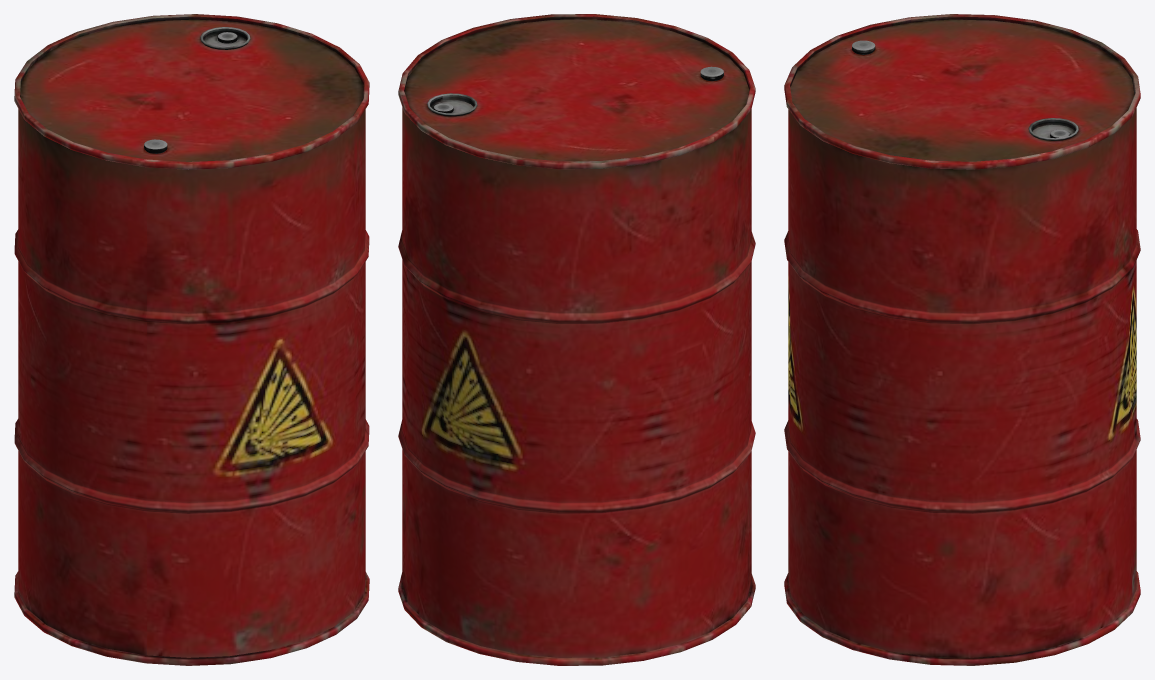
The model's file is barrel_01.glb.
The picture shows the model from 3 angles, left to right: view 1: azimuth 30°, elevation 25°; view 2: azimuth 150°, elevation 25°; view 3: azimuth 270°, elevation 25°; orthographic projection.
Parts seen in each view (by area): view 1: Barrel_01; view 2: Barrel_01; view 3: Barrel_01.
Part boxes in pixels (x1=…): Barrel_01: x1=14, y1=14, x2=369, y2=665; Barrel_01: x1=398, y1=14, x2=755, y2=665; Barrel_01: x1=784, y1=14, x2=1140, y2=665.
Size of the model in its own units: 0.563 by 0.88 by 0.563.
Materials: 1 (1 with a texture image).
